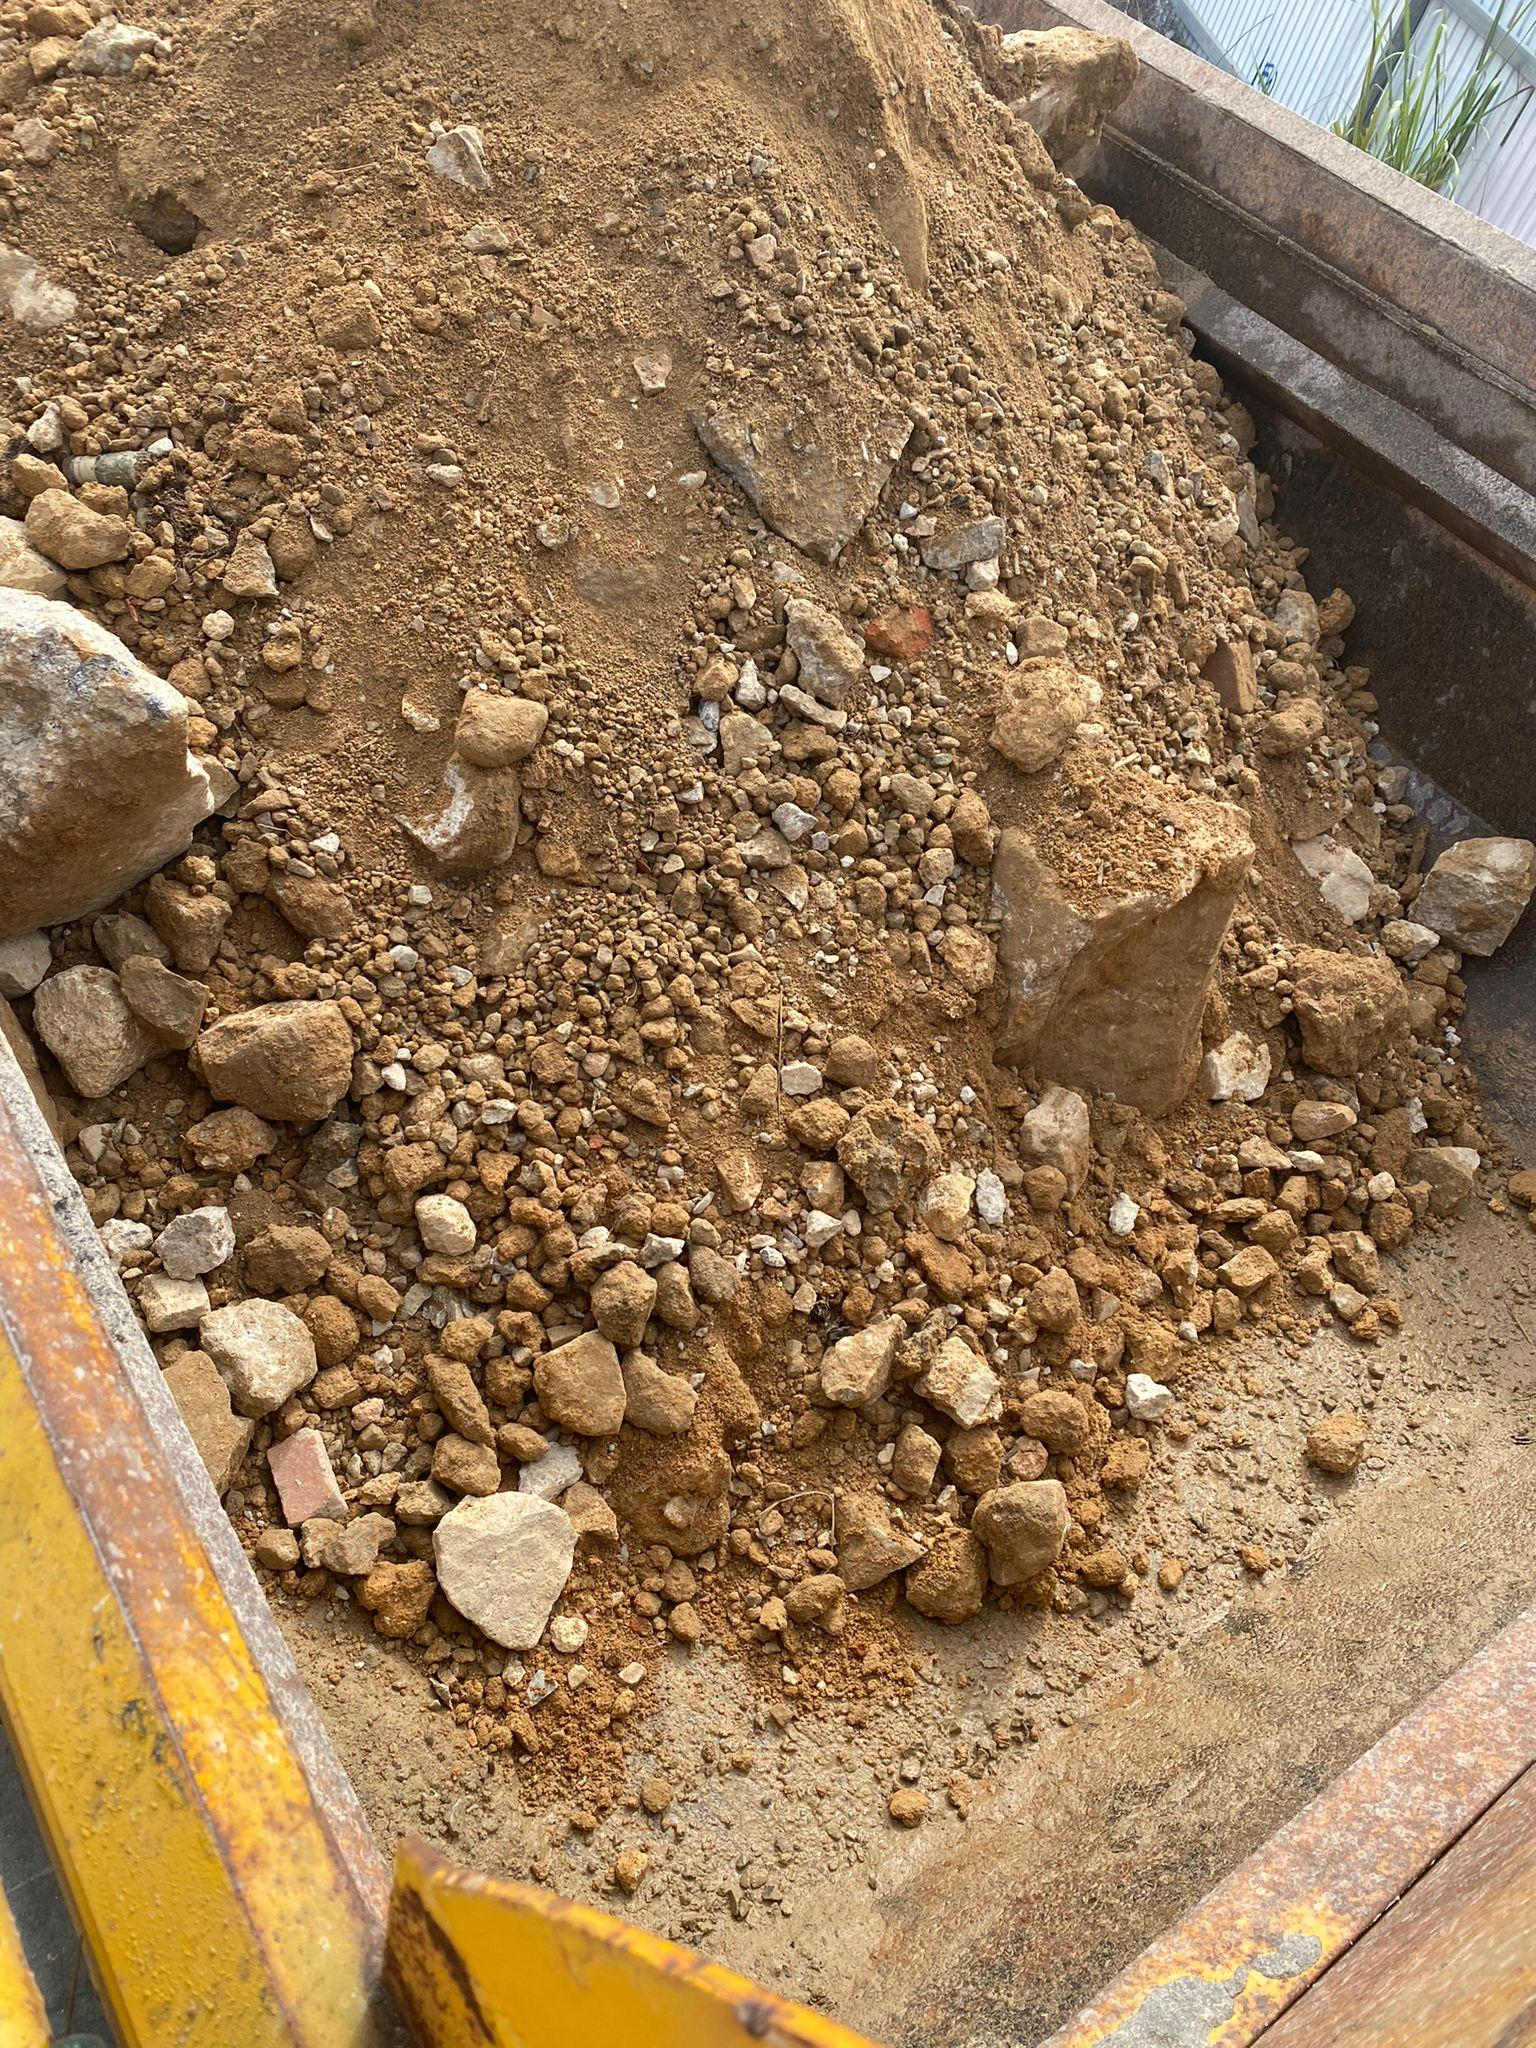dirt: (2, 2, 1533, 2042)
stone: (986, 763, 1255, 1114), (0, 584, 227, 937), (687, 353, 915, 564), (390, 685, 549, 876), (431, 1488, 578, 1651), (187, 997, 355, 1122), (1409, 834, 1534, 958), (970, 1476, 1071, 1587), (531, 1329, 628, 1437)
